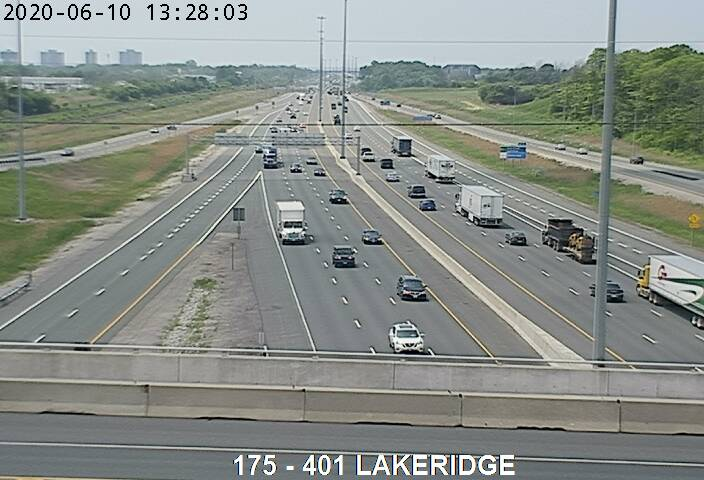time_stamp: (1, 1, 253, 27)
